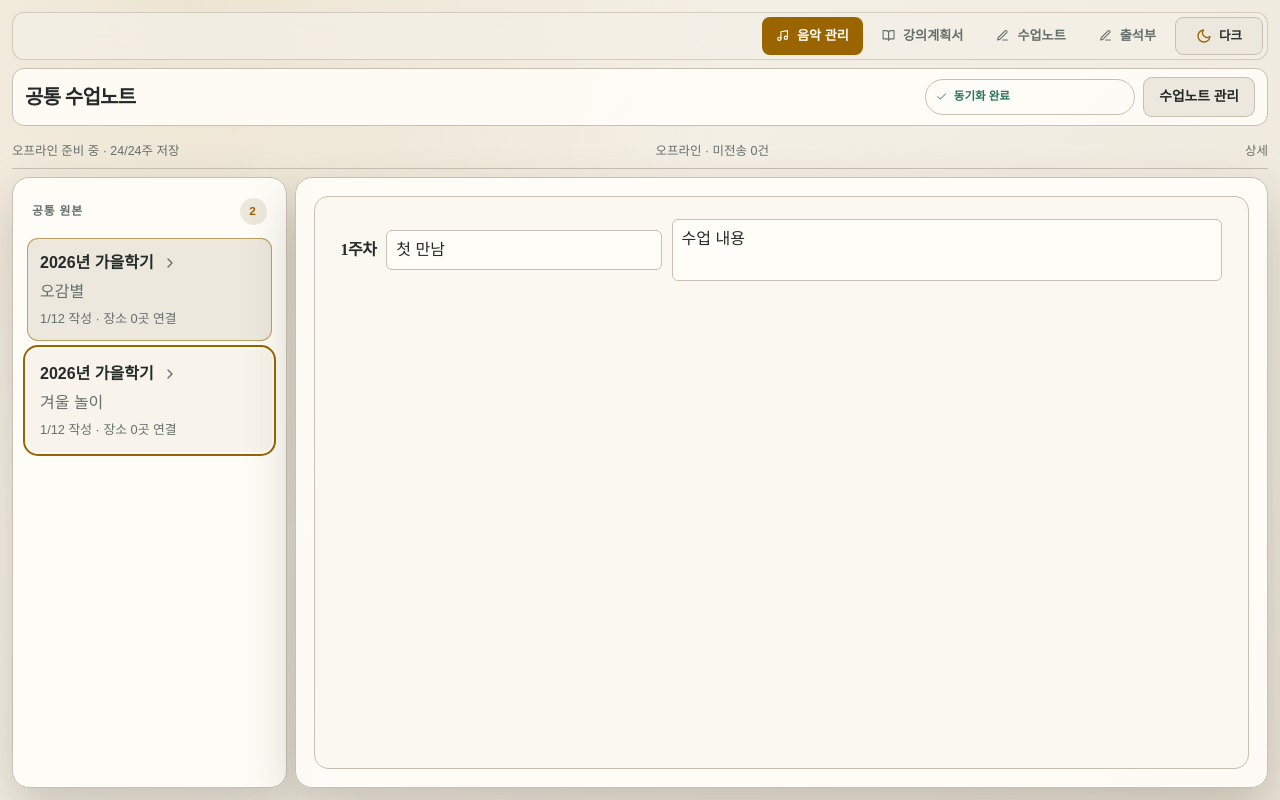
Scenario: reopens offline, browses an unopened term and edits week twelve
Expected: the field named "1주차 공통 수업명" is shown, [386,230,662,270]
Click the button "2026년 가을학기 겨울 놀이 1/12 작성 · 장소 0곳 연결" at (149, 401), box [27,349,272,452]
(page scrolled)
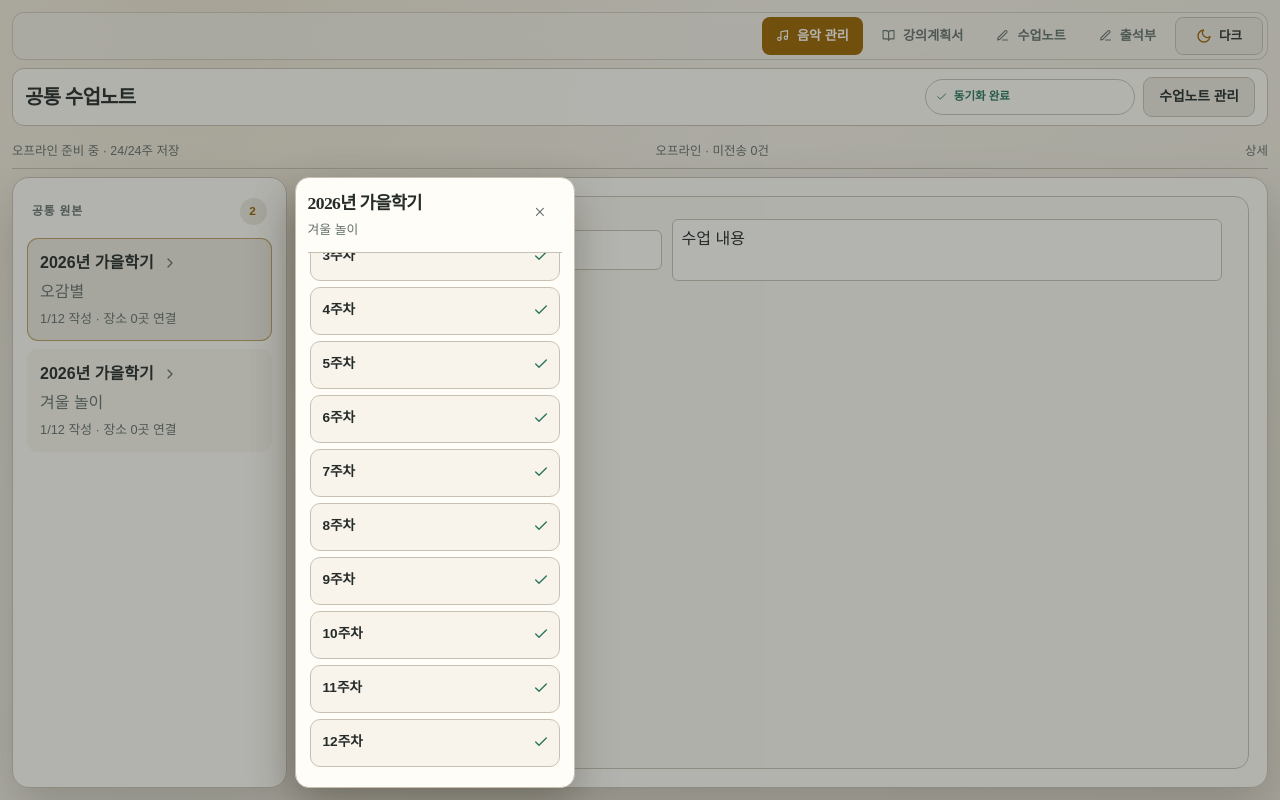
Click the button "12주차" at (434, 743), box [310,719,560,767]
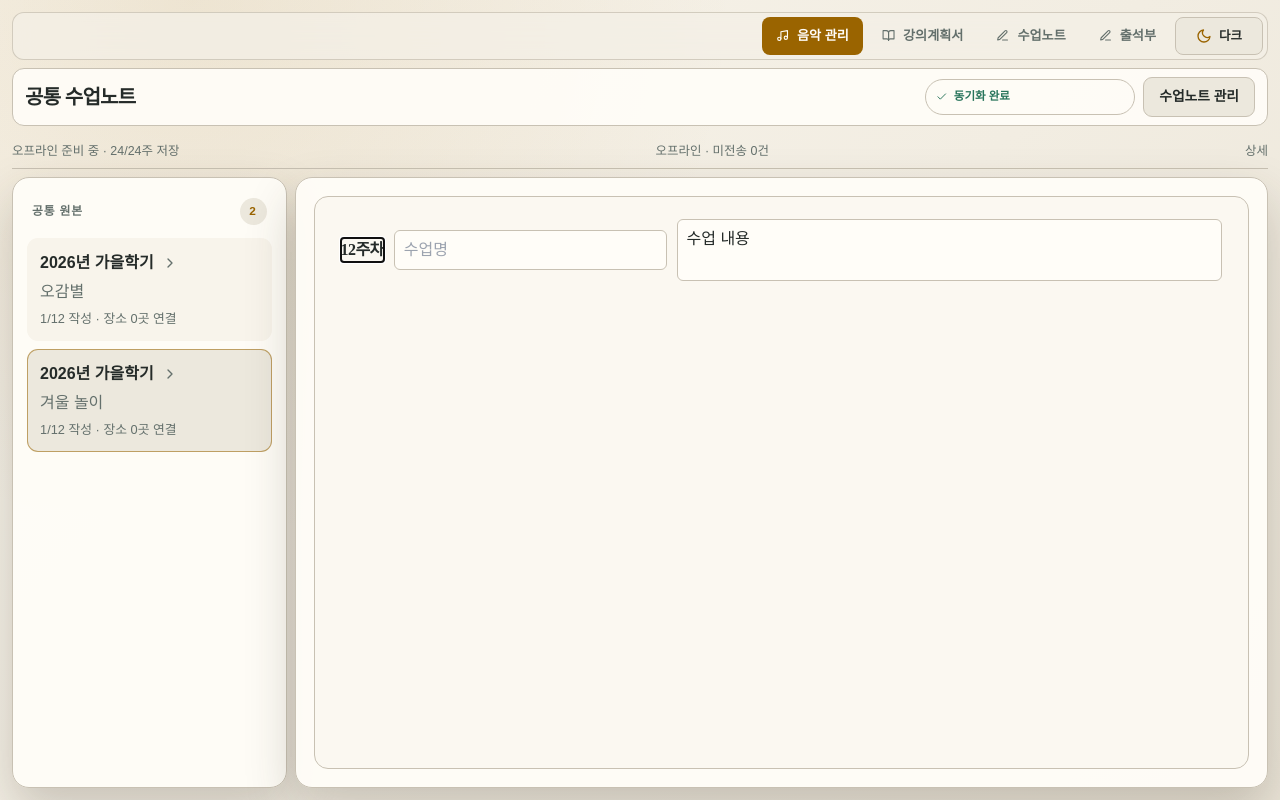
Type "비행기 모드에서도 기록" into the field named "12주차 공통 수업명" at (530, 250), box [394,230,666,270]
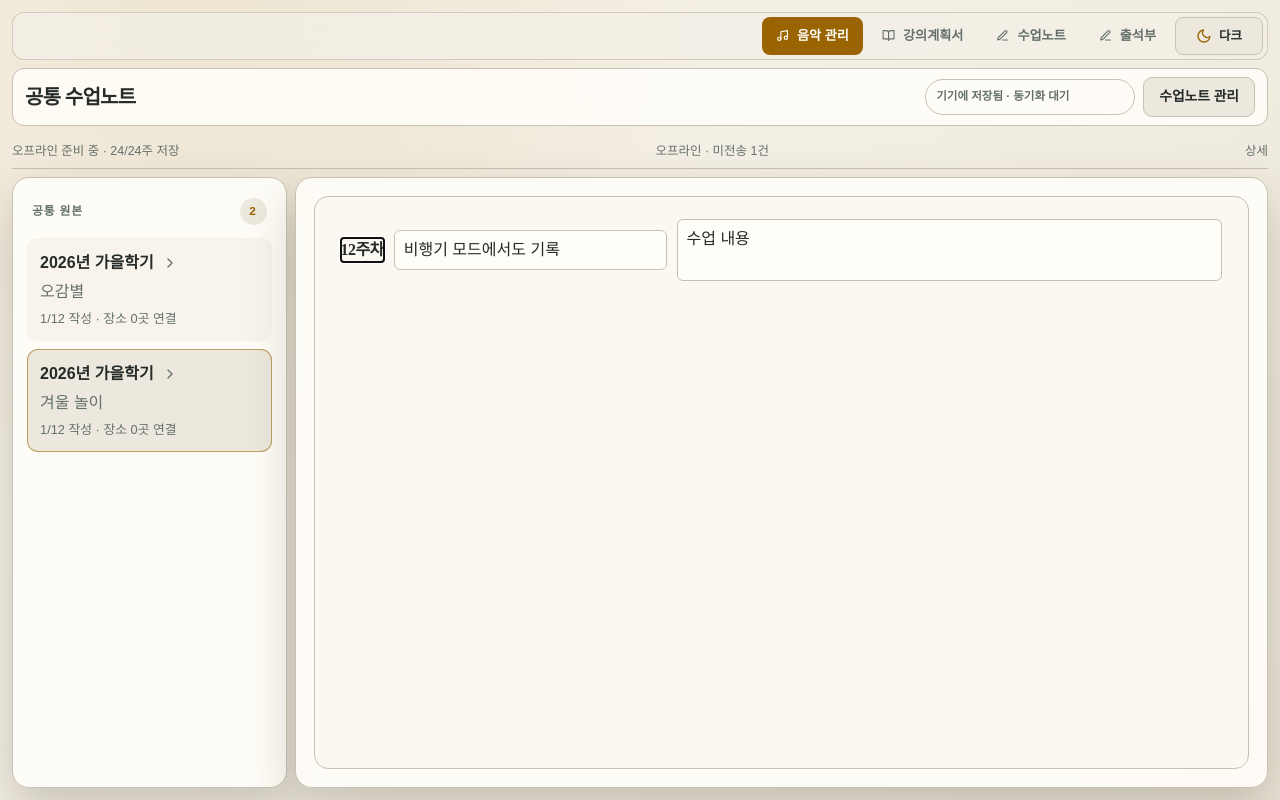
Click the button "수업노트 관리" at (1199, 97), box [1143,77,1255,117]
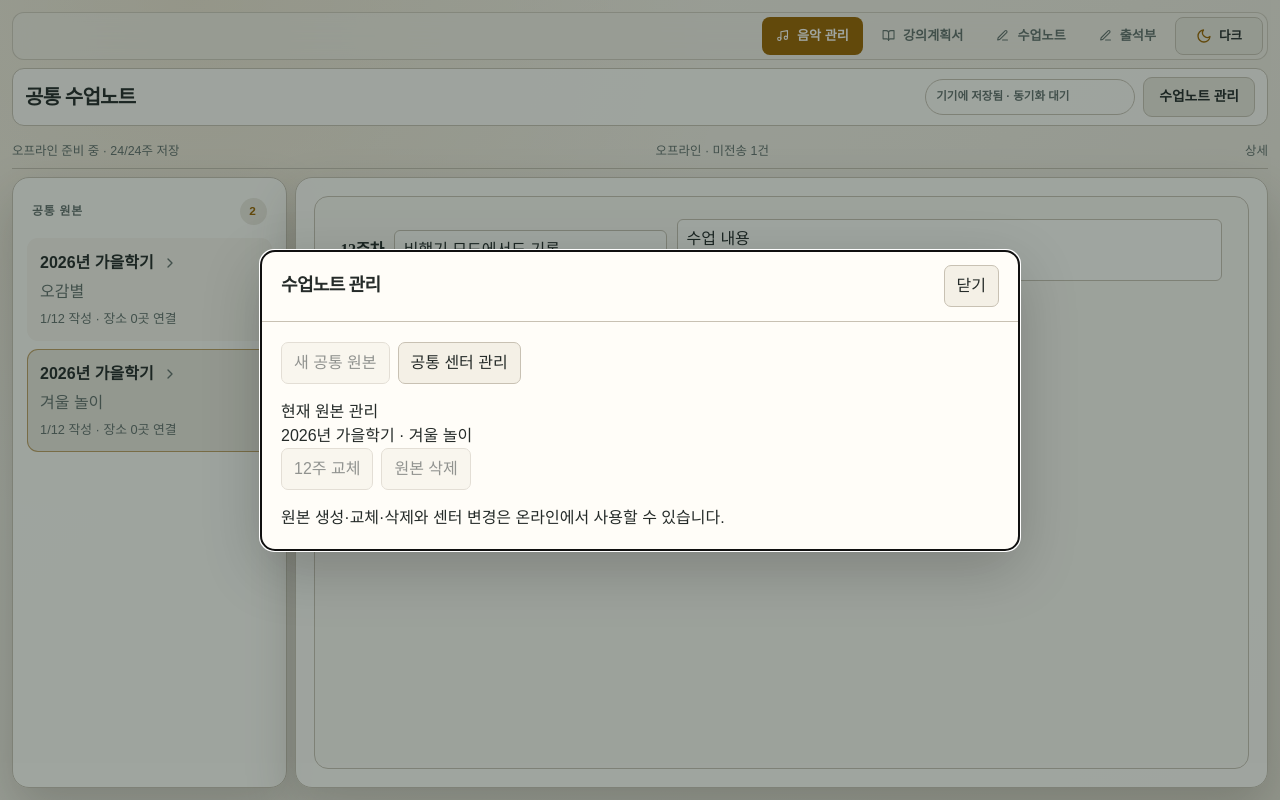
Now the button "새 공통 원본" is disabled, box [281,342,390,384]
Now the button "12주 교체" is disabled, box [281,448,373,490]
